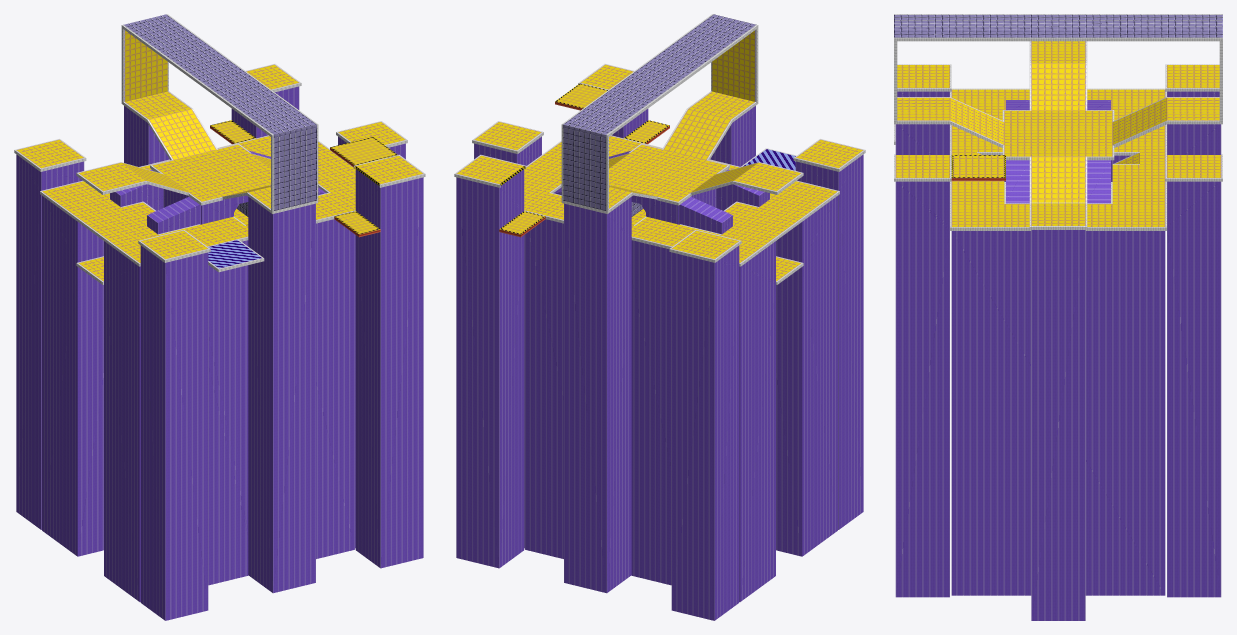
File: beginner_finish.fbx
3 views of the same model, side by side, from view 1: azimuth 30°, elevation 25°; view 2: azimuth 150°, elevation 25°; view 3: azimuth 270°, elevation 25° (orthographic). The views are drawn at different scales.
Parts seen in each view (by area): view 1: Object, Object.006, Object.005, Object.004; view 2: Object, Object.006, Object.004, Object.005; view 3: Object, Object.006.
Part boxes in pixels (x1,y1,x2,y2): Object: (14, 14, 425, 620); Object.006: (330, 137, 397, 166); Object.005: (334, 211, 380, 237); Object.004: (210, 120, 255, 144); Object: (454, 14, 865, 620); Object.006: (555, 83, 607, 110); Object.004: (499, 211, 545, 237); Object.005: (624, 120, 669, 144); Object: (894, 14, 1222, 620); Object.006: (951, 155, 1005, 180).
Size of the model in its own units: 11350 by 16350 by 9700.
